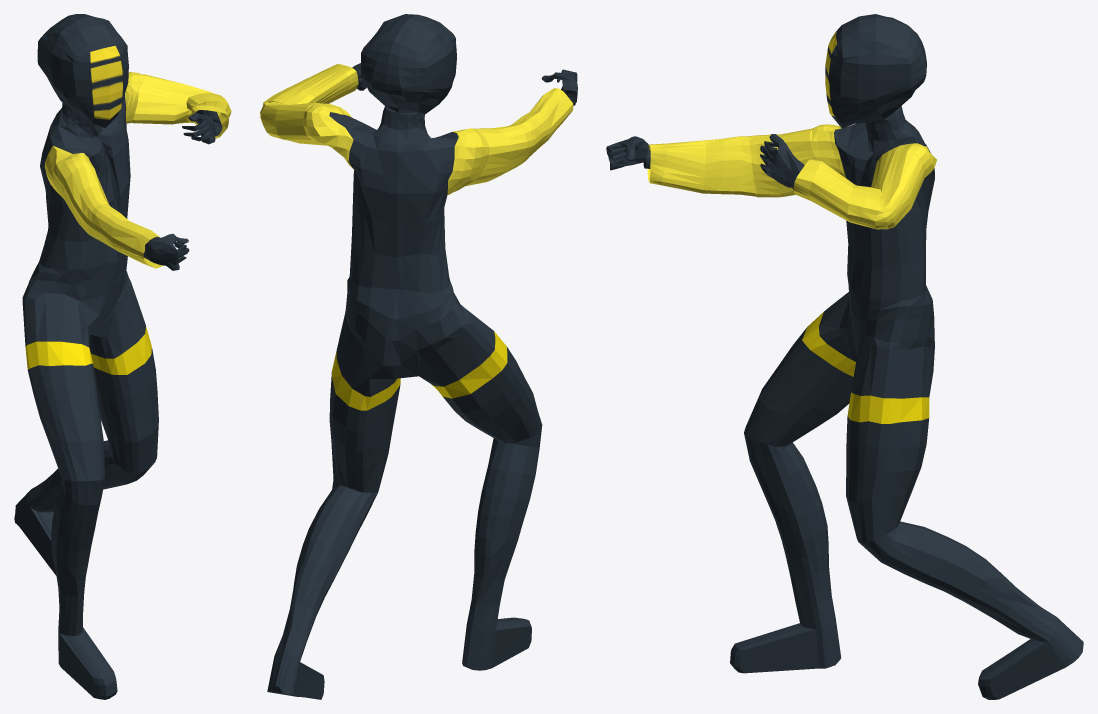
The model's file is Sentry_Attack_000003.obj.
3 renders of one model, left to right at view 1: azimuth 30°, elevation 25°; view 2: azimuth 150°, elevation 25°; view 3: azimuth 270°, elevation 25°, orthographic. The views are drawn at different scales.
Parts seen in each view (by area): view 1: Cube; view 2: Cube; view 3: Cube.
Part boxes in pixels (bbox=[...]): Cube: bbox=[14, 14, 231, 699]; Cube: bbox=[260, 14, 577, 699]; Cube: bbox=[606, 14, 1083, 699].
Size of the model in its own units: 1.33 by 3.7 by 2.38.
